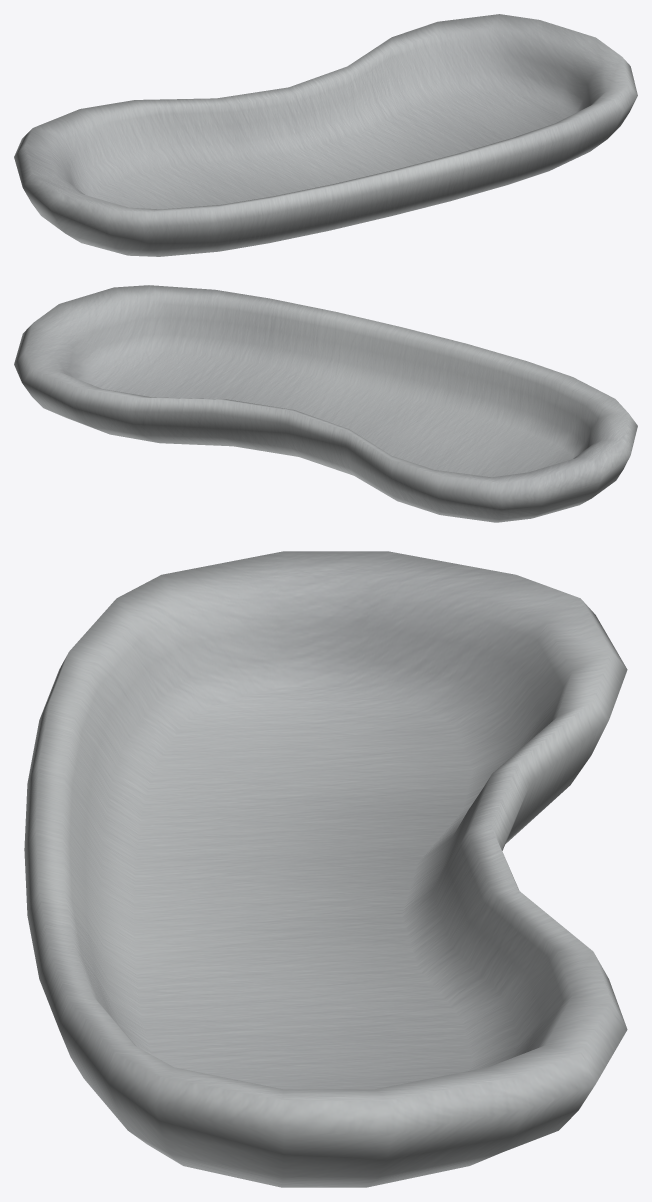
Rendered from nerka.fbx.
3 renders of one model, top to bottom at view 1: azimuth 30°, elevation 25°; view 2: azimuth 150°, elevation 25°; view 3: azimuth 270°, elevation 25°, orthographic. The views are drawn at different scales.
Visible parts, largest first — view 1: nerka; view 2: nerka; view 3: nerka.
Boxes of the visible parts, box(x1,y1,x2,y2) form: nerka: box(14, 14, 637, 256); nerka: box(14, 285, 637, 522); nerka: box(24, 551, 627, 1187).
Size of the model in its own units: 1264 by 112 by 569.
